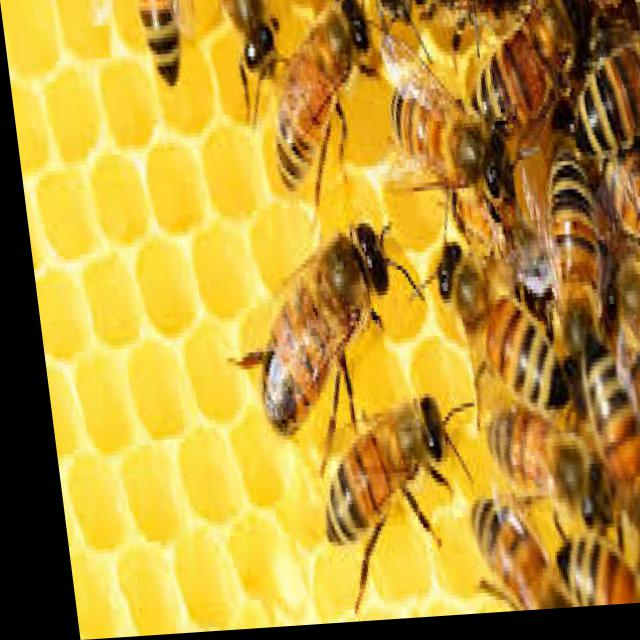Abeille: (218, 190, 437, 470), (303, 392, 478, 592), (411, 222, 563, 443), (255, 0, 385, 198), (378, 34, 510, 228), (475, 394, 612, 563), (531, 147, 615, 383)
